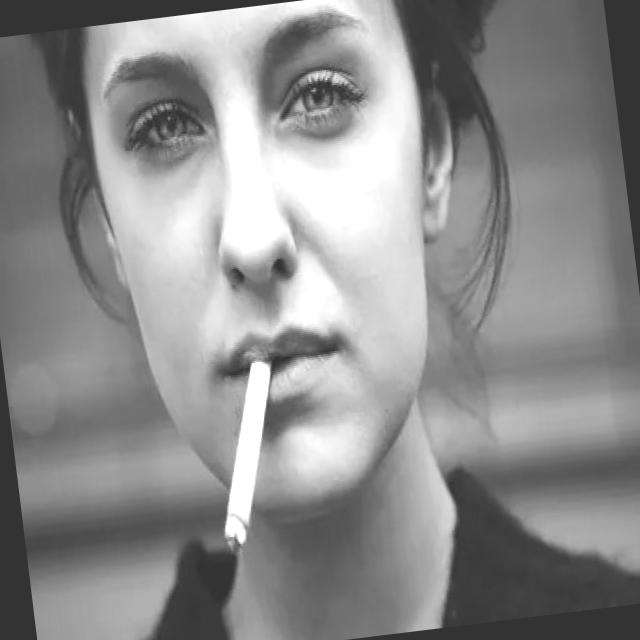smoke: (200, 356, 300, 554)
